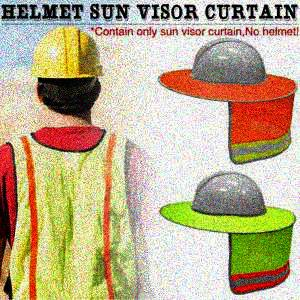helmet: (31, 26, 106, 118)
